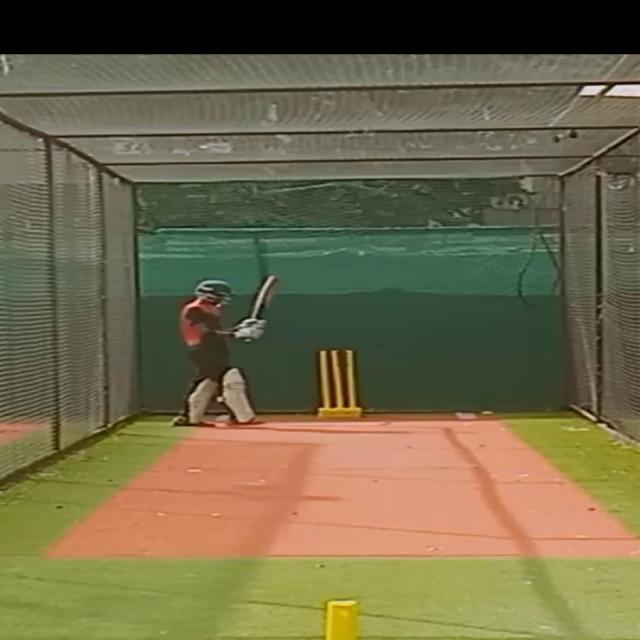stump: (316, 346, 368, 417)
